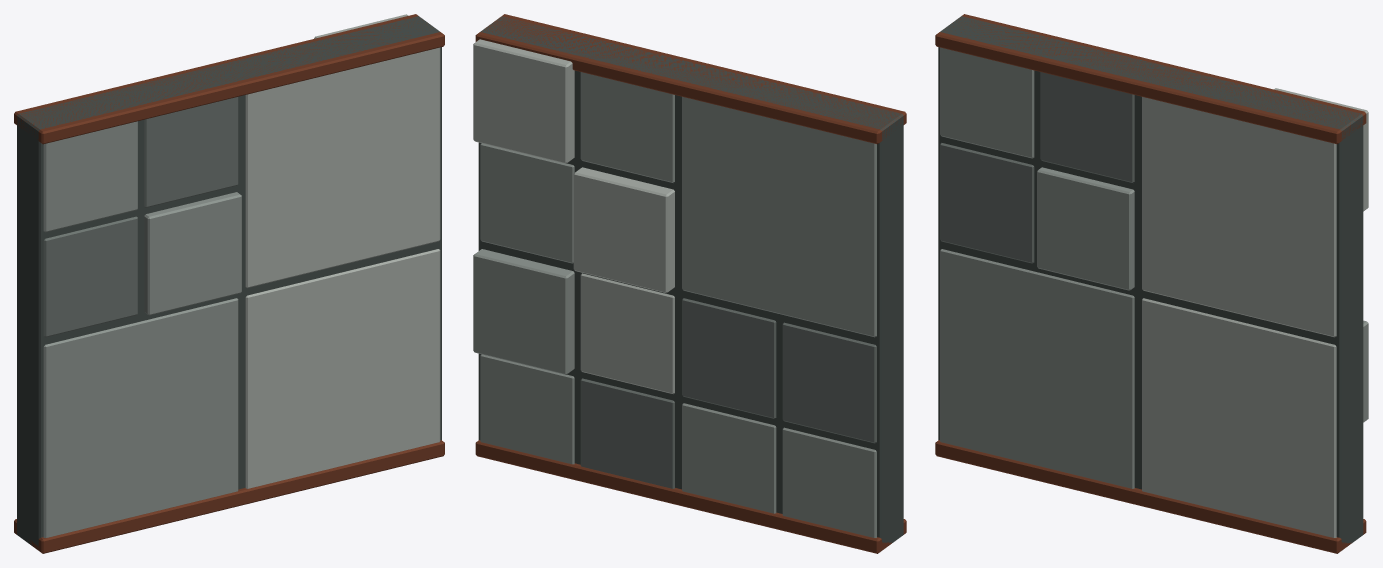
File: RUIN_WALL_Panel_4x4.glb
3 renders of one model, left to right at view 1: azimuth 30°, elevation 25°; view 2: azimuth 150°, elevation 25°; view 3: azimuth 330°, elevation 25°, orthographic.
Parts seen in each view (by area): view 1: RUIN_WALL_Panel_4x4; view 2: RUIN_WALL_Panel_4x4; view 3: RUIN_WALL_Panel_4x4.
Part boxes in pixels (x1=…): RUIN_WALL_Panel_4x4: x1=14, y1=14, x2=444, y2=553; RUIN_WALL_Panel_4x4: x1=473, y1=14, x2=906, y2=553; RUIN_WALL_Panel_4x4: x1=935, y1=14, x2=1368, y2=553.
Size of the model in its own units: 4 by 4 by 0.64.
